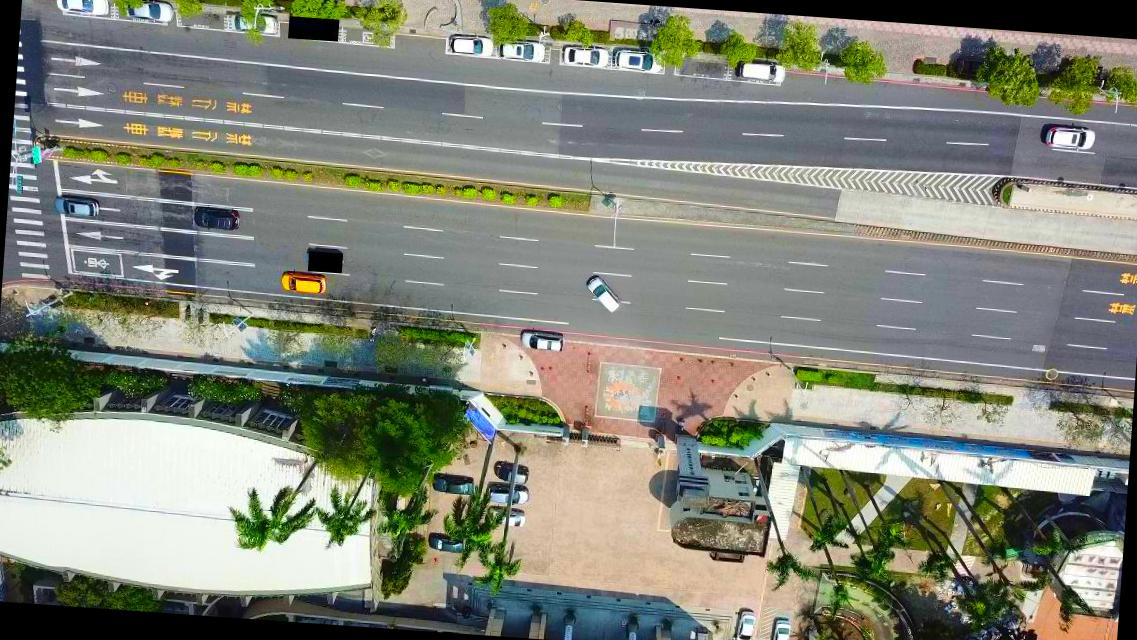vehicle: (584, 276, 620, 312), (1044, 125, 1096, 149), (192, 206, 239, 232), (226, 12, 280, 34), (614, 49, 663, 72), (279, 271, 326, 294), (123, 0, 174, 21), (499, 40, 546, 62), (562, 45, 609, 66), (737, 62, 786, 82), (54, 195, 100, 216), (448, 35, 494, 56), (426, 532, 468, 554), (55, 0, 109, 16), (492, 460, 528, 484), (520, 330, 563, 350), (486, 484, 529, 504), (432, 475, 474, 495), (486, 508, 524, 528), (734, 607, 757, 639), (769, 619, 791, 639)
